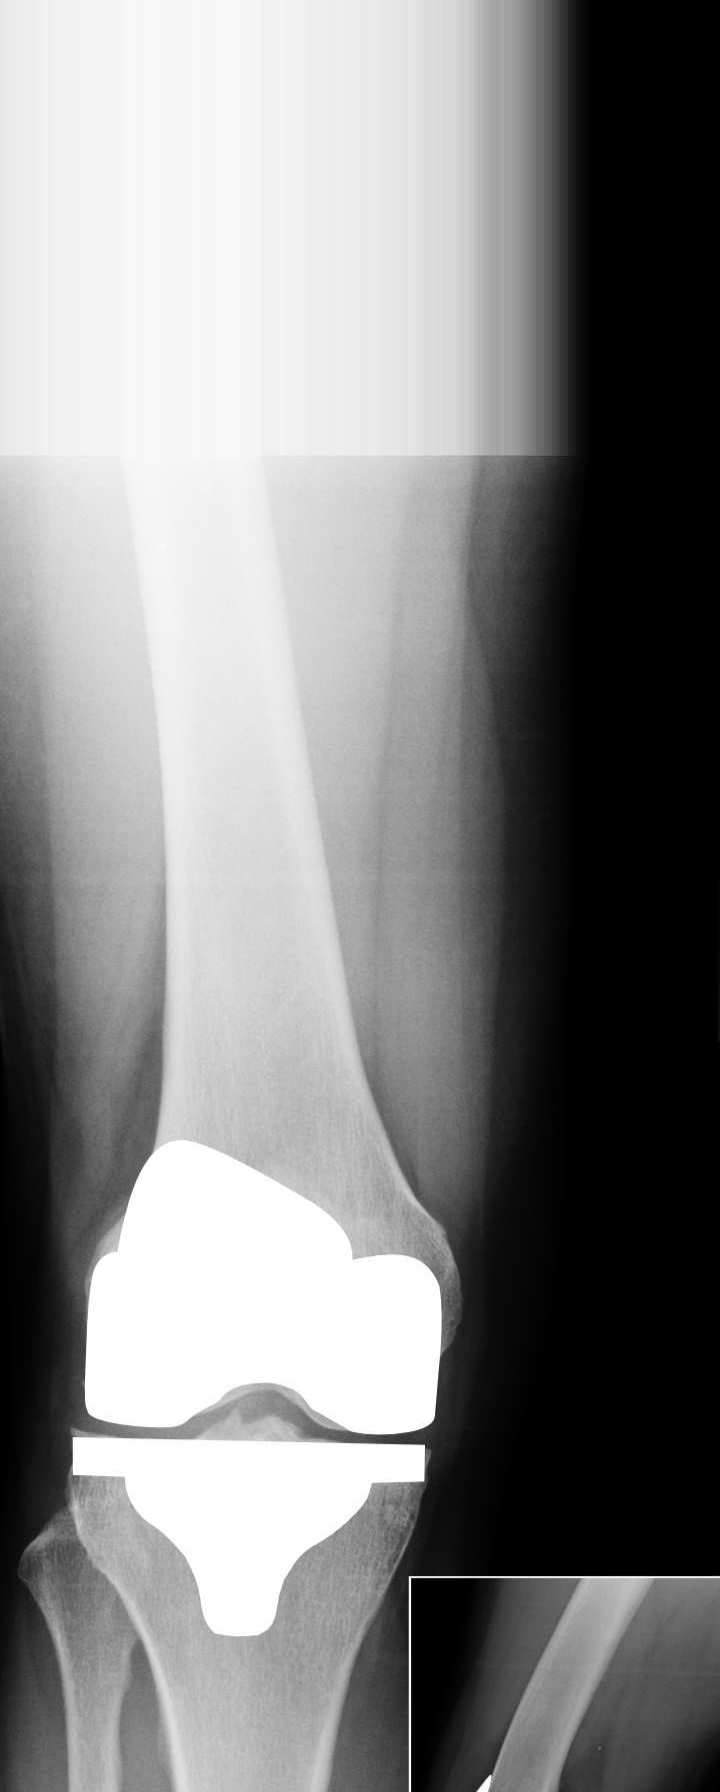Knee-Triathlon-Stryker: (77, 1129, 437, 1637), (470, 1765, 511, 1787)
